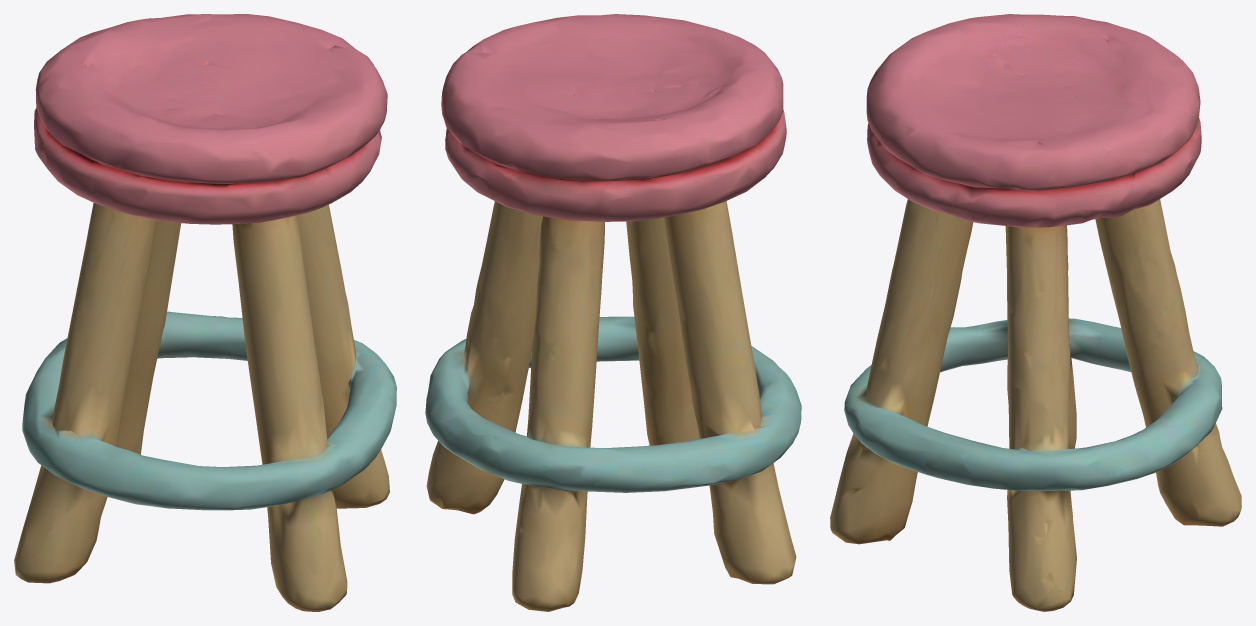
Rendered from barstool.glb.
The picture shows the model from 3 angles, left to right: view 1: azimuth 30°, elevation 25°; view 2: azimuth 150°, elevation 25°; view 3: azimuth 270°, elevation 25°; orthographic projection. The views are drawn at different scales.
Parts seen in each view (by area): view 1: tripo_node_09ba5cfd-e4e5-47a5-979b-16f8c1bc2e60; view 2: tripo_node_09ba5cfd-e4e5-47a5-979b-16f8c1bc2e60; view 3: tripo_node_09ba5cfd-e4e5-47a5-979b-16f8c1bc2e60.
Boxes of the visible parts, box(x1,y1,x2,y2) form: tripo_node_09ba5cfd-e4e5-47a5-979b-16f8c1bc2e60: box(14, 14, 396, 611); tripo_node_09ba5cfd-e4e5-47a5-979b-16f8c1bc2e60: box(425, 14, 801, 611); tripo_node_09ba5cfd-e4e5-47a5-979b-16f8c1bc2e60: box(830, 14, 1241, 611).
Bounding box in the file's own units: 0.8089 × 1 × 0.8125.
1 material, 1 textured.
